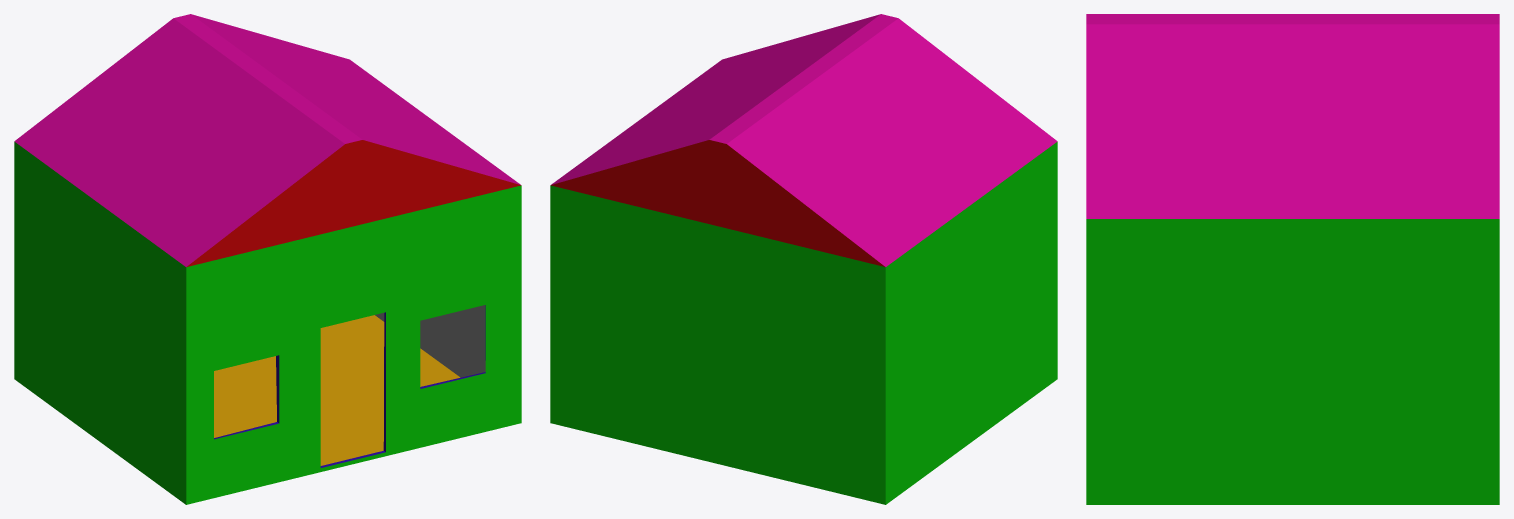
File: house1.obj
The picture shows the model from 3 angles, left to right: view 1: azimuth 30°, elevation 25°; view 2: azimuth 150°, elevation 25°; view 3: azimuth 270°, elevation 25°; orthographic projection. The views are drawn at different scales.
Visible parts, largest first — view 1: Cube; view 2: Cube; view 3: Cube.
Part boxes in pixels (left/top/right/bottom): Cube: left=14, top=14, right=521, bottom=504; Cube: left=550, top=14, right=1057, bottom=504; Cube: left=1086, top=14, right=1499, bottom=504.
Bounding box in the file's own units: 2 × 1.84 × 1.78.
